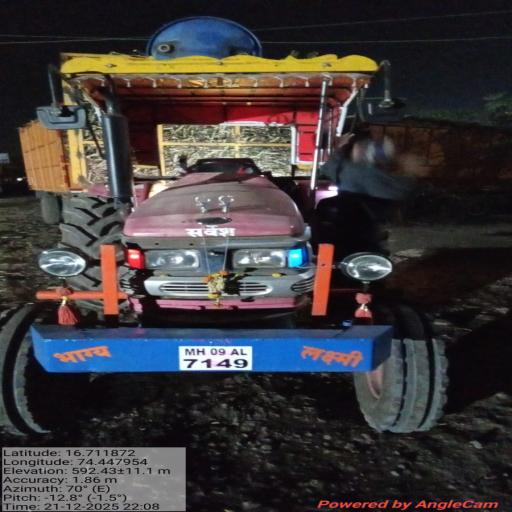number_plate: (179, 346, 252, 370)
